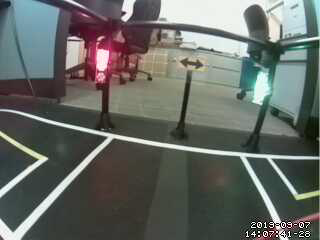Left_Right_sign: (168, 50, 211, 73)
Traffic_light_green: (255, 65, 271, 111)
Traffic_light_red: (92, 41, 112, 91)
